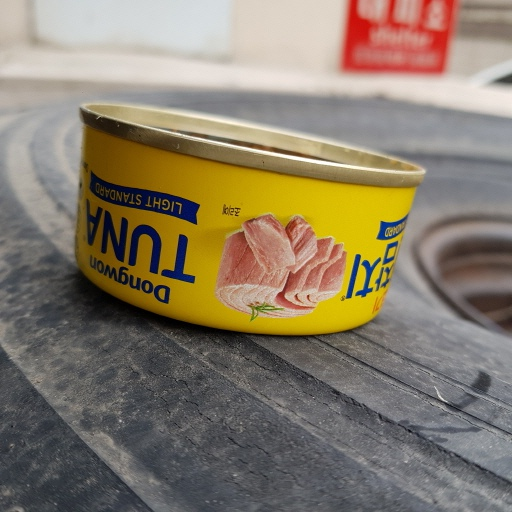Metal_1: (68, 96, 428, 335)
